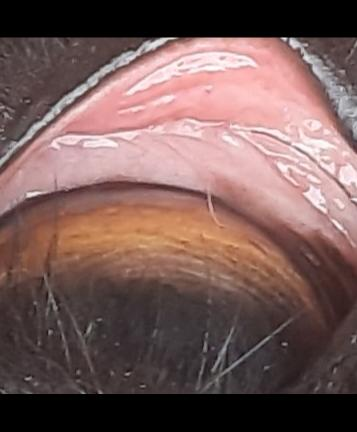eye_membrane: (0, 38, 357, 272)
